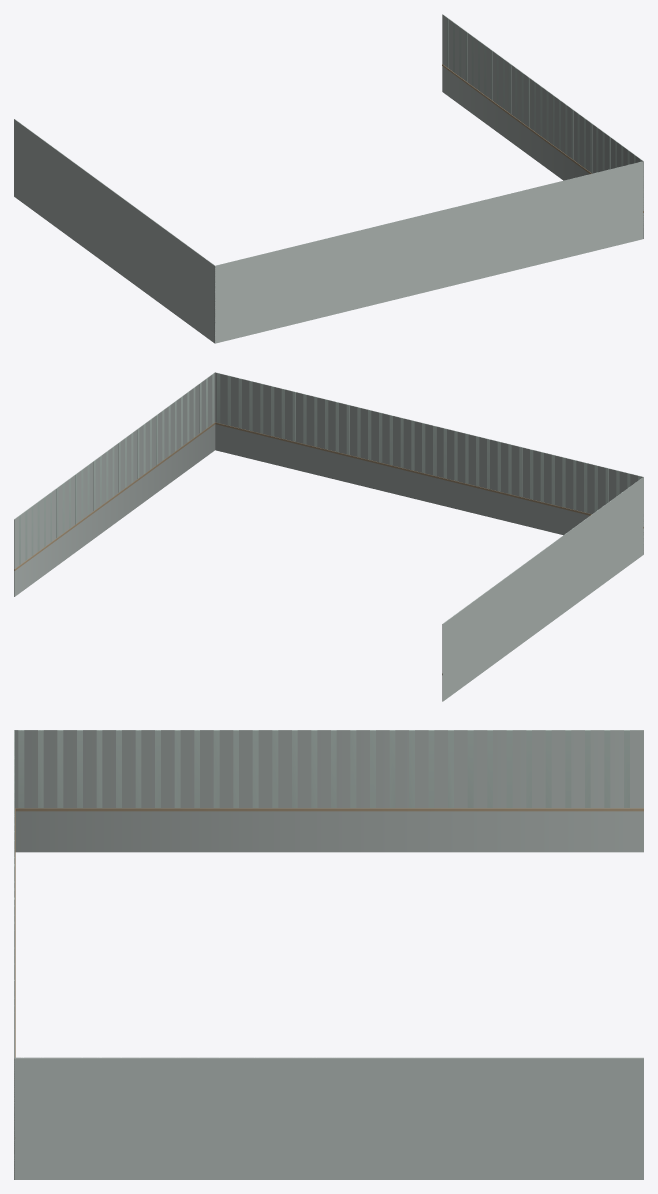
The model's file is home_wallpaper_s4__mint.glb.
3 views of the same model, one above another, from view 1: azimuth 30°, elevation 25°; view 2: azimuth 150°, elevation 25°; view 3: azimuth 270°, elevation 25° (orthographic). The views are drawn at different scales.
Bounding box in the file's own units: 15.9 × 2.75 × 12.9.
